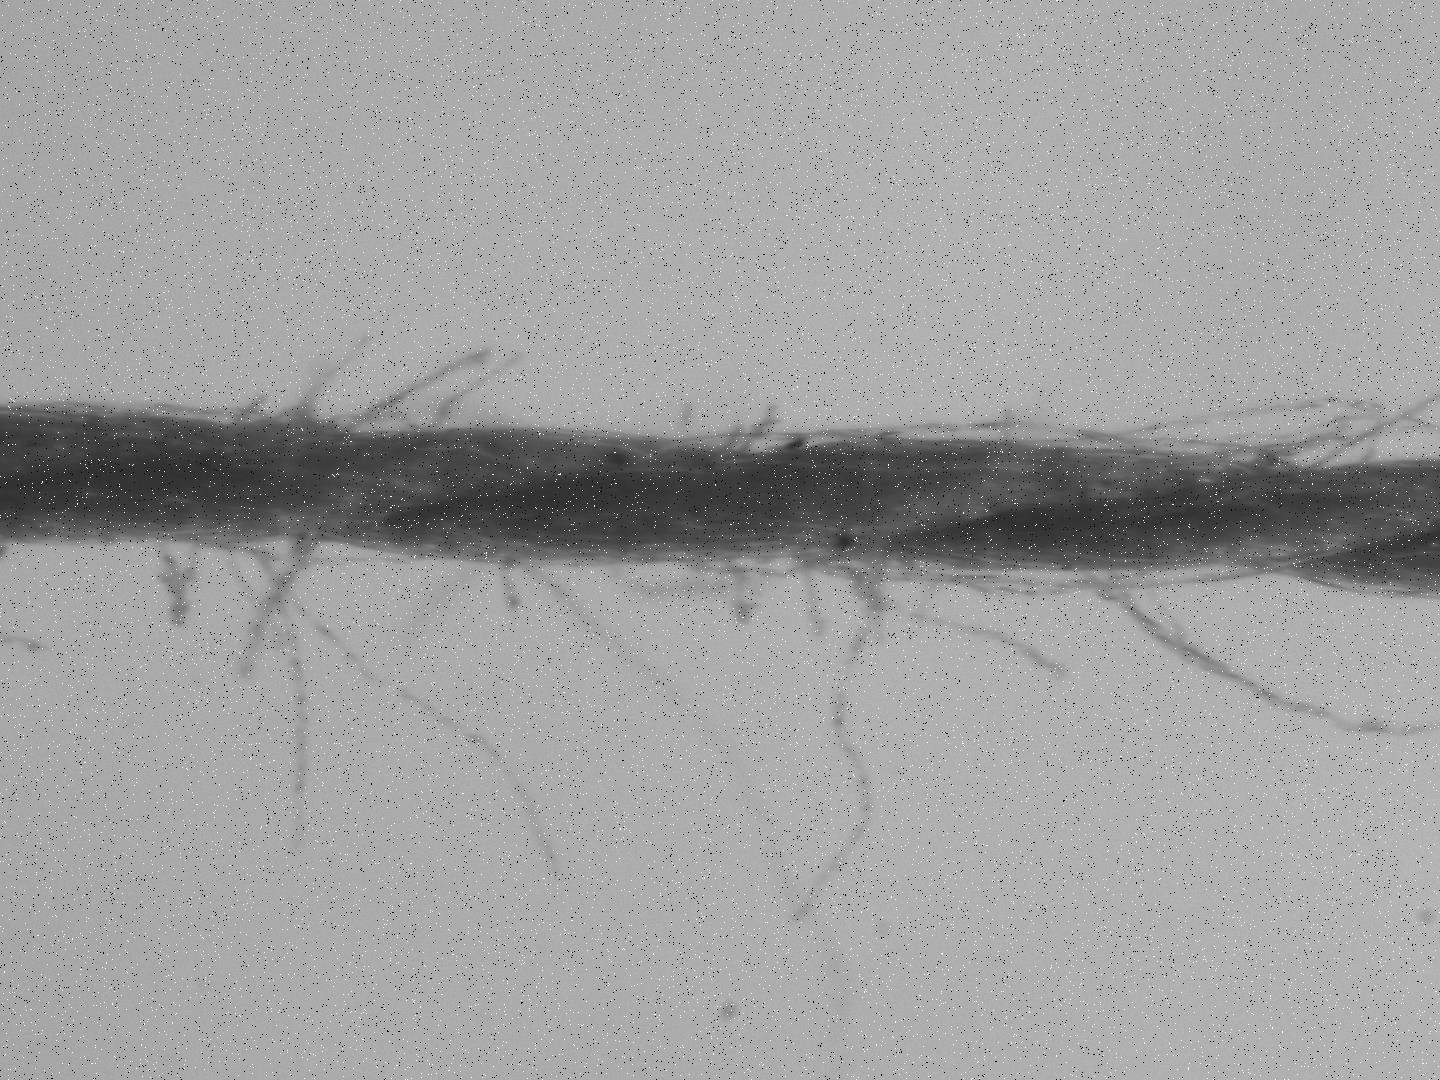loop_fiber: (1071, 391, 1383, 471)
protruding_fiber: (248, 550, 567, 883), (773, 559, 887, 938), (796, 555, 1077, 676), (346, 344, 498, 427)
